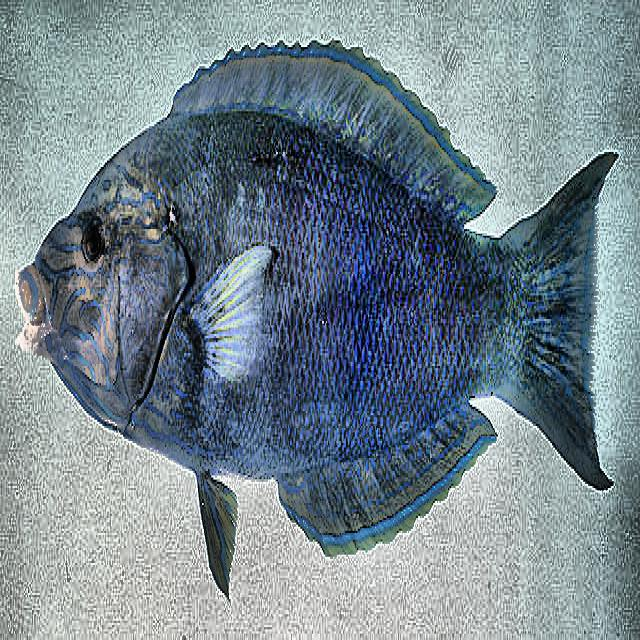fish: (8, 38, 620, 610)
